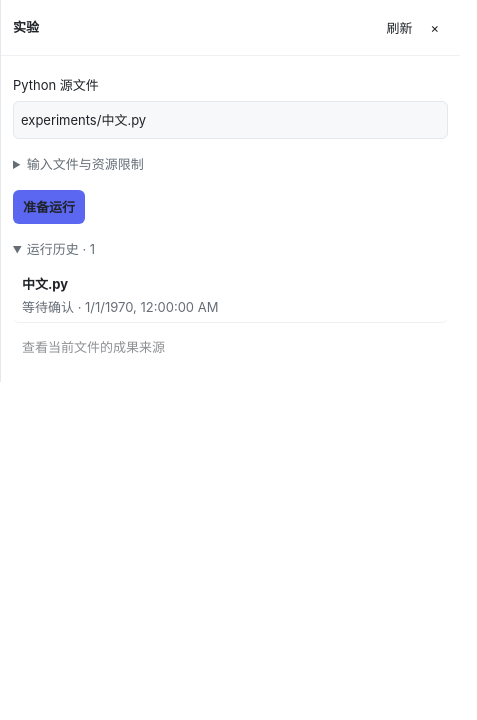
experiment user workflow › shows a rejected native run decision without starting or reporting a completed experiment
The image size is (477, 720).
Click the button with class "history-row".
click(45, 284)  # box [13,268,448,322]
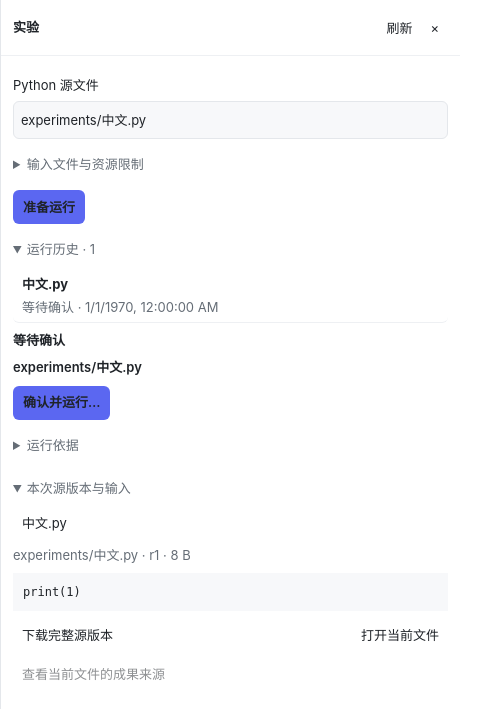
Click the button "确认并运行…".
click(62, 402)  # box [13,386,110,420]
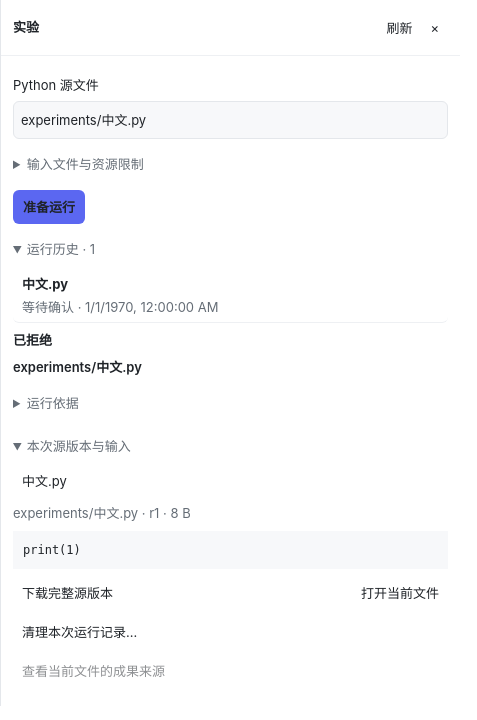
Now the element with class "run-detail" shows "已拒绝", box [13,332,52,348]
